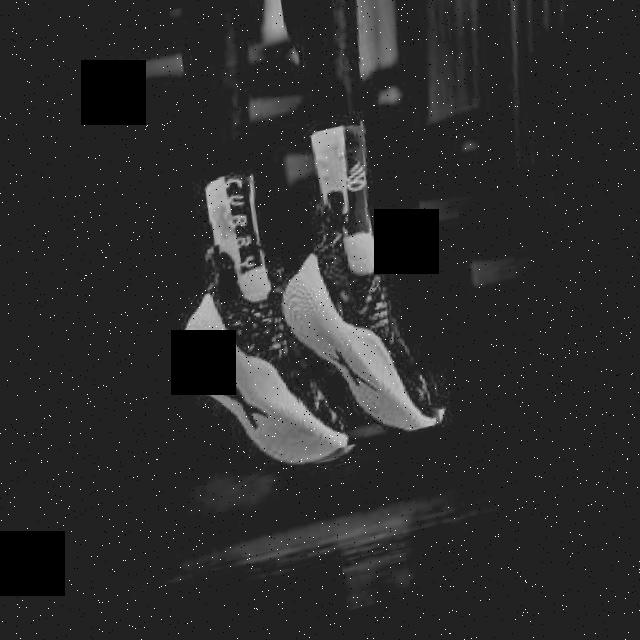shoe: (169, 220, 372, 497), (267, 179, 462, 462)
